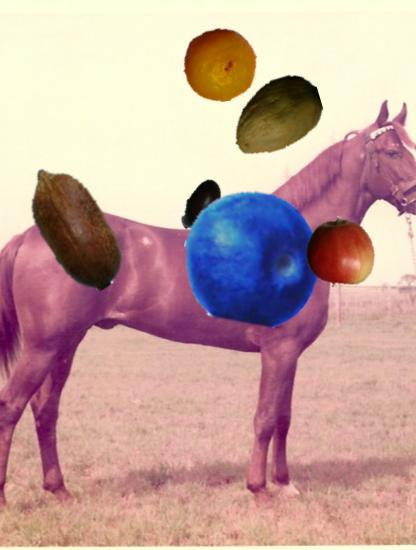Apple: (305, 217, 376, 288)
Eggplant: (172, 177, 230, 235)
Huckleberry: (183, 189, 322, 328)
Lemon: (183, 27, 258, 102)
Nut: (7, 160, 142, 295)
Papaya: (229, 68, 323, 162)
